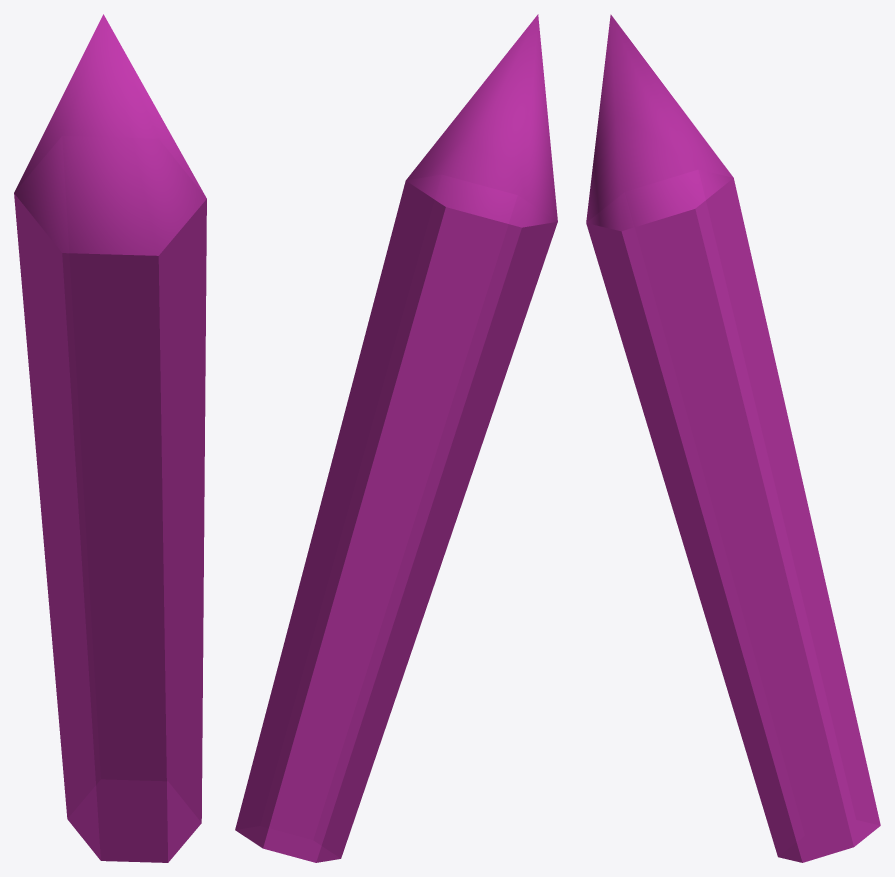
Rendered from C.cristal1.fbx.
3 renders of one model, left to right at view 1: azimuth 30°, elevation 25°; view 2: azimuth 150°, elevation 25°; view 3: azimuth 270°, elevation 25°, orthographic. The views are drawn at different scales.
Visible parts, largest first — view 1: pasted__pasted__pCylinder18; view 2: pasted__pasted__pCylinder18; view 3: pasted__pasted__pCylinder18.
Part boxes in pixels (x1,y1,x2,y2): pasted__pasted__pCylinder18: (14,14,206,862); pasted__pasted__pCylinder18: (235,14,557,862); pasted__pasted__pCylinder18: (586,14,880,862).
Size of the model in its own units: 1.3 by 4.75 by 1.63.
